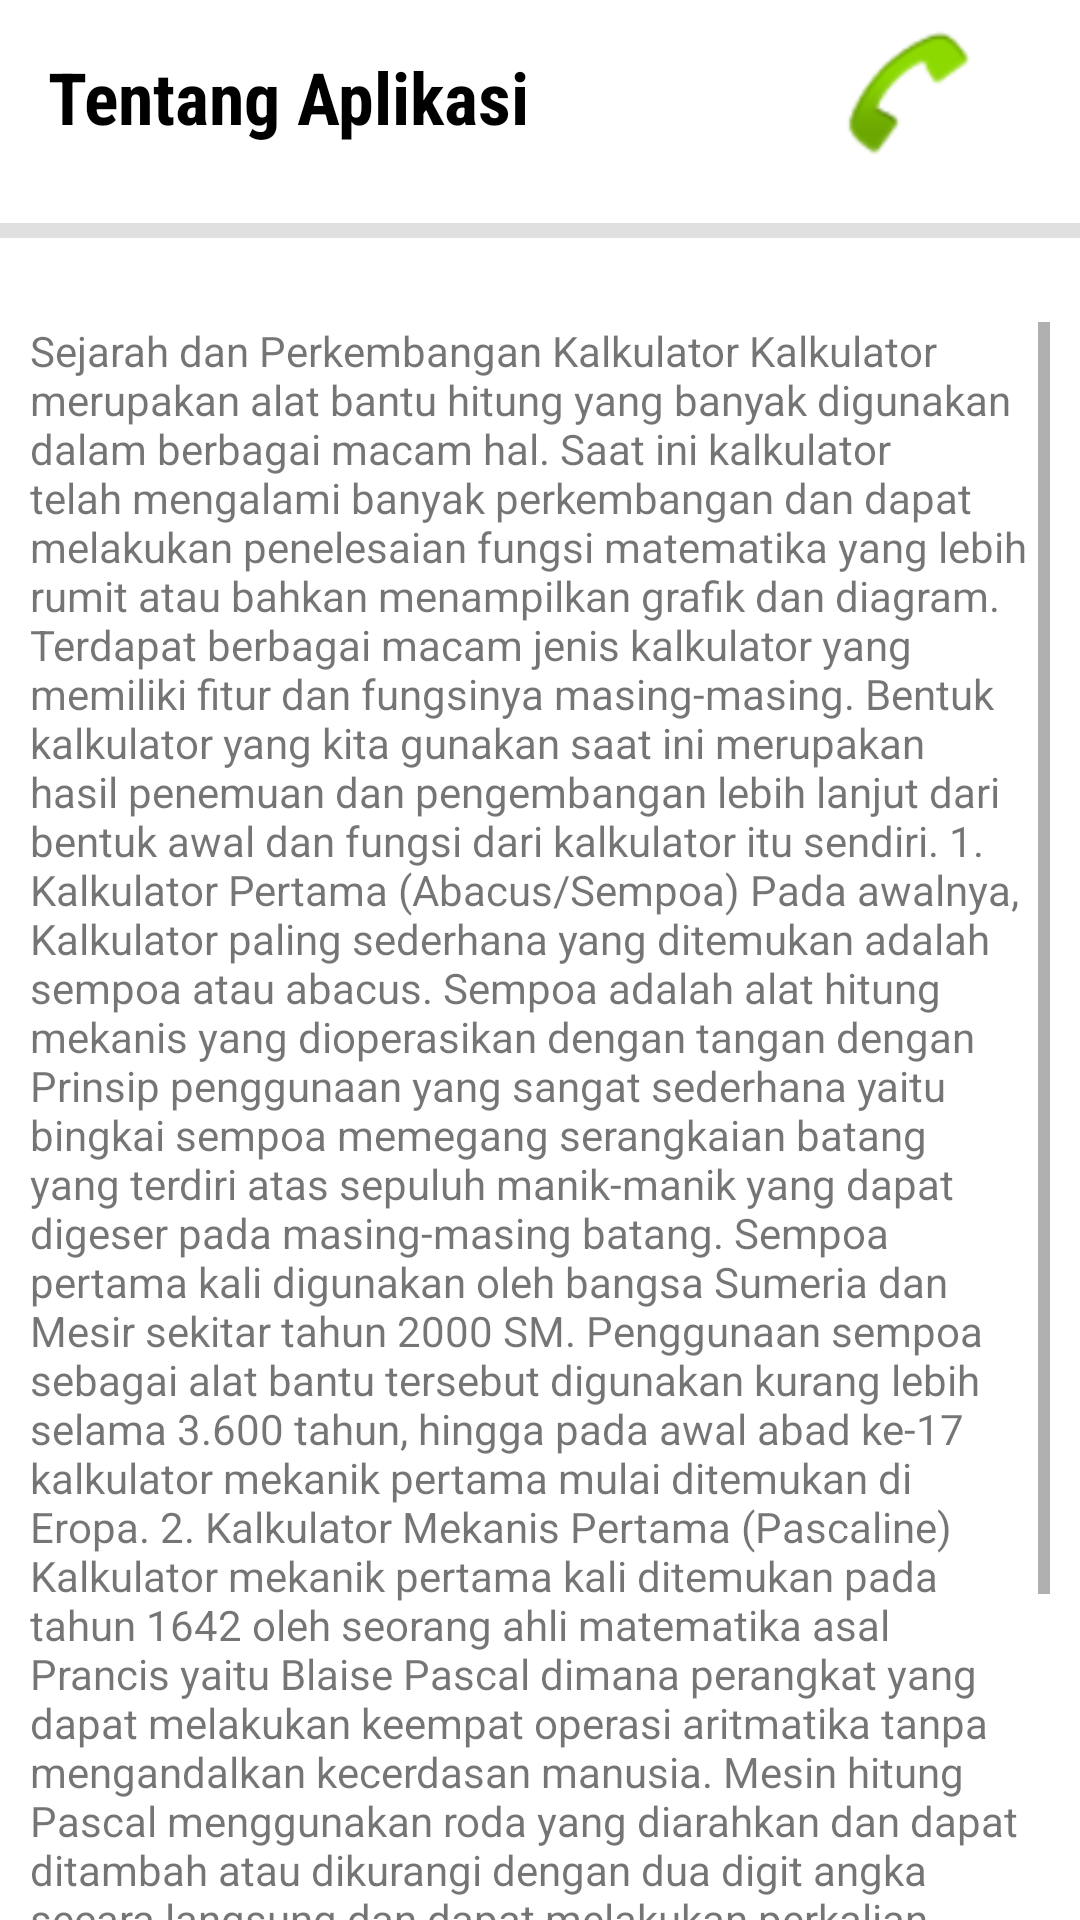

Named icons in this screenshot (1080px x 1920px) and their bounding boxes, (x1, y1, x2, y2):
sym action call: (848, 32, 969, 154)
